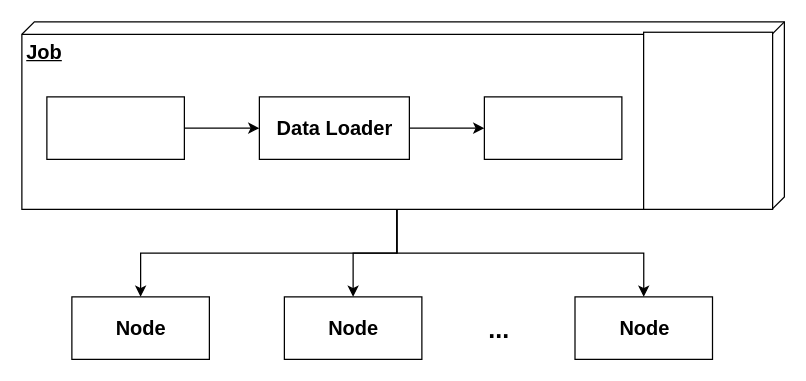
The diagram is 806 pixels wide and 381 high, and some of its shapes have lost their labels. Here are the shapes that lost their labels. From the top down, the centre of each, then its label:
At (115,127): "Dataset".
At (552,127): "Model".
At (707,120): "Parameters".
